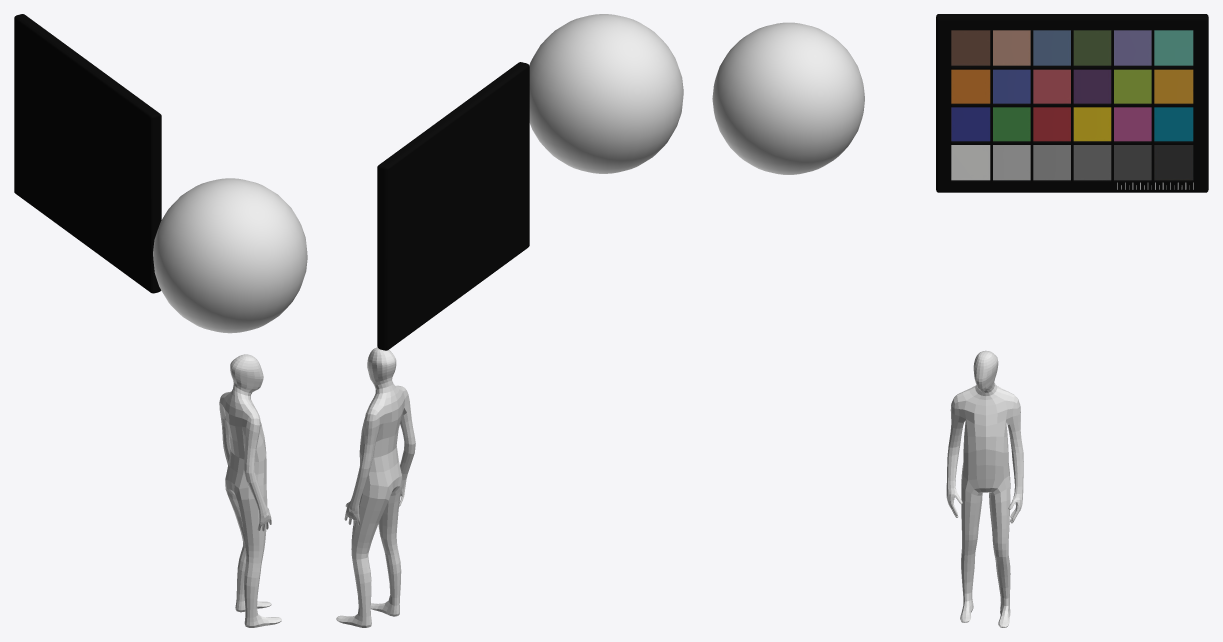
The model's file is TestQr.glb.
3 renders of one model, left to right at view 1: azimuth 30°, elevation 25°; view 2: azimuth 150°, elevation 25°; view 3: azimuth 270°, elevation 25°, orthographic. The views are drawn at different scales.
Parts seen in each view (by area): view 1: Color Checker, Sphere Exposure, Human Scale - 1.80m; view 2: Color Checker, Sphere Exposure, Human Scale - 1.80m; view 3: Color Checker, Sphere Exposure, Human Scale - 1.80m.
Boxes of the visible parts, x1,y1,x2,y2 form: Color Checker: (14, 14, 161, 293); Sphere Exposure: (153, 178, 307, 333); Human Scale - 1.80m: (219, 354, 281, 627); Color Checker: (377, 62, 529, 350); Sphere Exposure: (529, 14, 683, 173); Human Scale - 1.80m: (336, 347, 415, 627); Color Checker: (936, 14, 1208, 192); Sphere Exposure: (712, 22, 864, 174); Human Scale - 1.80m: (946, 350, 1023, 627).
Bounding box in the file's own units: 1.56 × 3.78 × 3.13.
5 materials, 1 textured.
